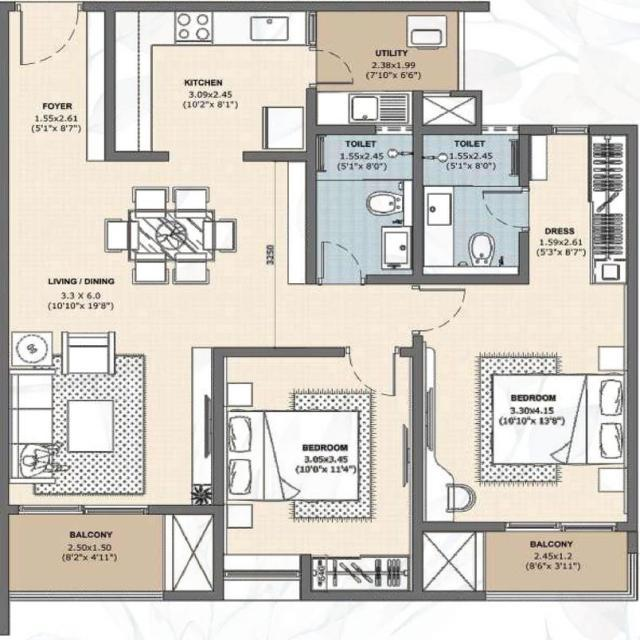Balcony-Sitout: (8, 513, 166, 592), (485, 535, 631, 591)
Bedroom: (223, 358, 411, 553)
Bedroom with Toilet: (418, 128, 634, 526)
Dining: (100, 186, 237, 289)
Dress: (530, 133, 631, 281)
Enterance-Foyer: (3, 1, 109, 163)
Kitchen: (116, 11, 307, 151)
Living: (1, 314, 209, 508)
Toilet: (423, 137, 527, 276), (326, 139, 412, 273)
Utility: (317, 11, 461, 95)
